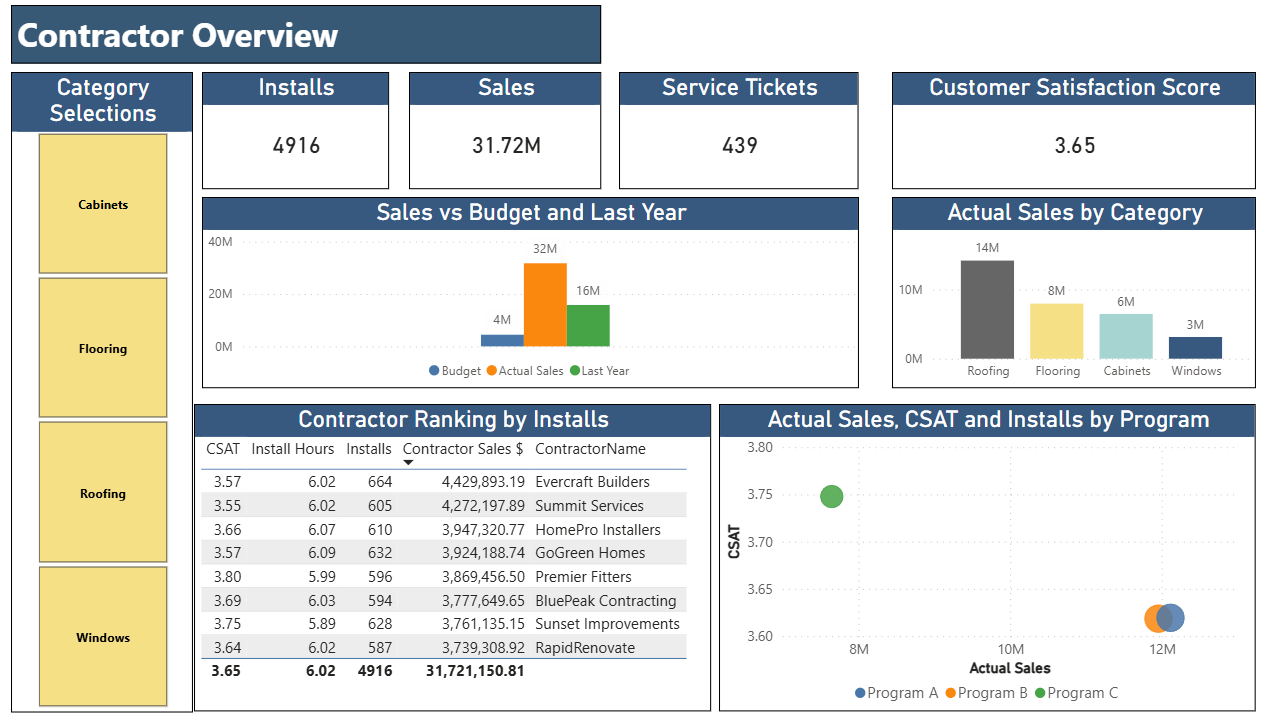

The dashboard page shown, as its layout file describes it:
{"tool":"powerbi","page":{"name":"Contractor Overview","canvas":[1280,720],"ordinal":0},"visuals":[{"type":"card","title":"Sales","fields":{"Values":["Date Table.Sales $"]},"box":[402.3,75.6,187.4,114.3],"z":0},{"type":"card","title":"Installs","fields":{"Values":["Date Table.Installs"]},"box":[201.1,75.4,181.7,114.3],"z":1000},{"type":"card","title":"Service Tickets","fields":{"Values":["Date Table.Service Tickets"]},"box":[606.9,75.6,233.1,114.3],"z":2000},{"type":"card","title":"Customer Satisfaction Score","fields":{"Values":["Date Table.CSAT"]},"box":[872,75.6,354.3,114.3],"z":3000},{"type":"lineClusteredColumnComboChart","title":"Sales vs Budget and  Last Year","fields":{"Y":["Date Table.Budget","Date Table.Actual Sales","Date Table.Last Year"]},"box":[201.1,197.7,638.9,186.3],"z":4000},{"type":"clusteredColumnChart","fields":{"Category":["DimProduct.Category"],"Y":["Date Table.Actual Sales"]},"box":[872,197.7,354.3,186.3],"z":5000},{"type":"tableEx","title":"Contractor Ranking by Installs","fields":{"Values":["Date Table.CSAT","Date Table.Install Hours","Date Table.Installs","Date Table.Contractor Sales $","DimContractor.ContractorName"]},"box":[193.1,398.9,502.9,299.4],"z":6000},{"type":"slicer","title":"Category Selections","fields":{"Values":["DimProduct.Category"]},"box":[16,75.4,177.1,622.9],"z":7000},{"type":"scatterChart","fields":{"X":["Date Table.Actual Sales"],"Y":["Date Table.CSAT"],"Size":["Date Table.Installs"],"Series":["DimContractor.Program"]},"box":[704,399,522.3,299.4],"z":8000},{"type":"textbox","box":[16,10.3,573.7,57.1],"z":9000}]}

Visuals, with their boxes in screenshot pixels (x1, y1, x2, y2), scaled from the page's 1280x720 canvas onto the 1281x721 screenshot:
"Sales" card: 403/76/590/190
"Installs" card: 201/76/383/190
"Service Tickets" card: 607/76/841/190
"Customer Satisfaction Score" card: 873/76/1227/190
"Sales vs Budget and  Last Year" lineClusteredColumnComboChart: 201/198/841/385
clusteredColumnChart - DimProduct.Category x Date Table.Actual Sales: 873/198/1227/385
"Contractor Ranking by Installs" tableEx: 193/399/697/699
"Category Selections" slicer: 16/76/193/699
scatterChart - Date Table.Actual Sales x Date Table.CSAT: 705/400/1227/699
textbox: 16/10/590/67
